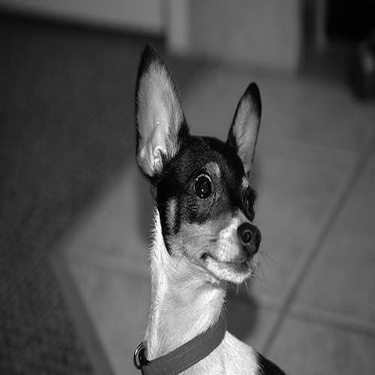dog: (108, 28, 304, 371)
